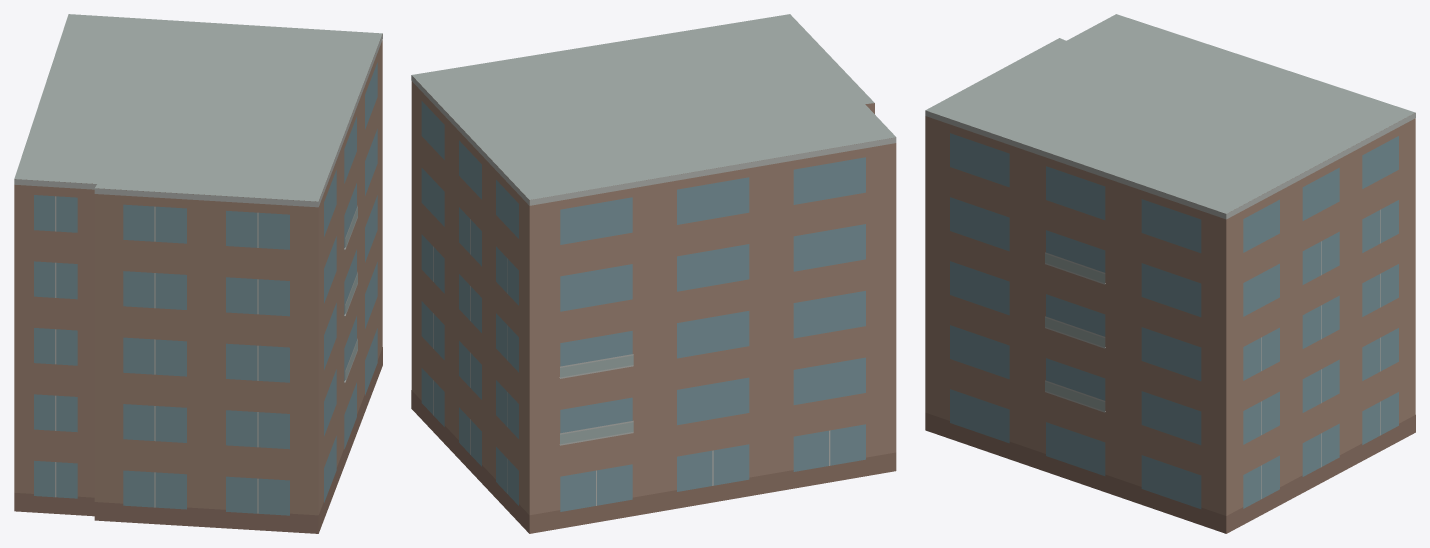
The model's file is survey-upis-32621461.glb.
The picture shows the model from 3 angles, left to right: view 1: azimuth 30°, elevation 25°; view 2: azimuth 150°, elevation 25°; view 3: azimuth 270°, elevation 25°; orthographic projection. The views are drawn at different scales.
Parts seen in each view (by area): view 1: survey-upis-32621461.tmp; view 2: survey-upis-32621461.tmp; view 3: survey-upis-32621461.tmp.
Boxes of the visible parts, x1=… form: survey-upis-32621461.tmp: x1=14, y1=14, x2=382, y2=533; survey-upis-32621461.tmp: x1=411, y1=14, x2=896, y2=533; survey-upis-32621461.tmp: x1=925, y1=14, x2=1415, y2=533.
Size of the model in its own units: 18.91 by 14.1 by 19.6.
